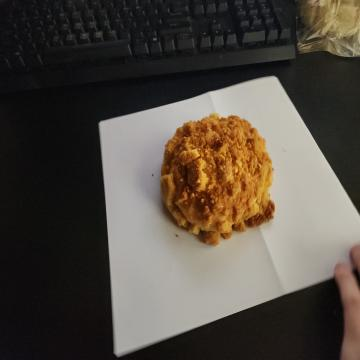soboru_bread: (156, 112, 276, 249)
